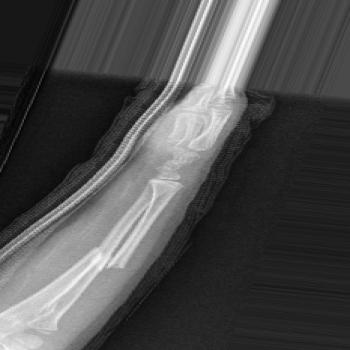Fracture: (89, 240, 133, 272)
